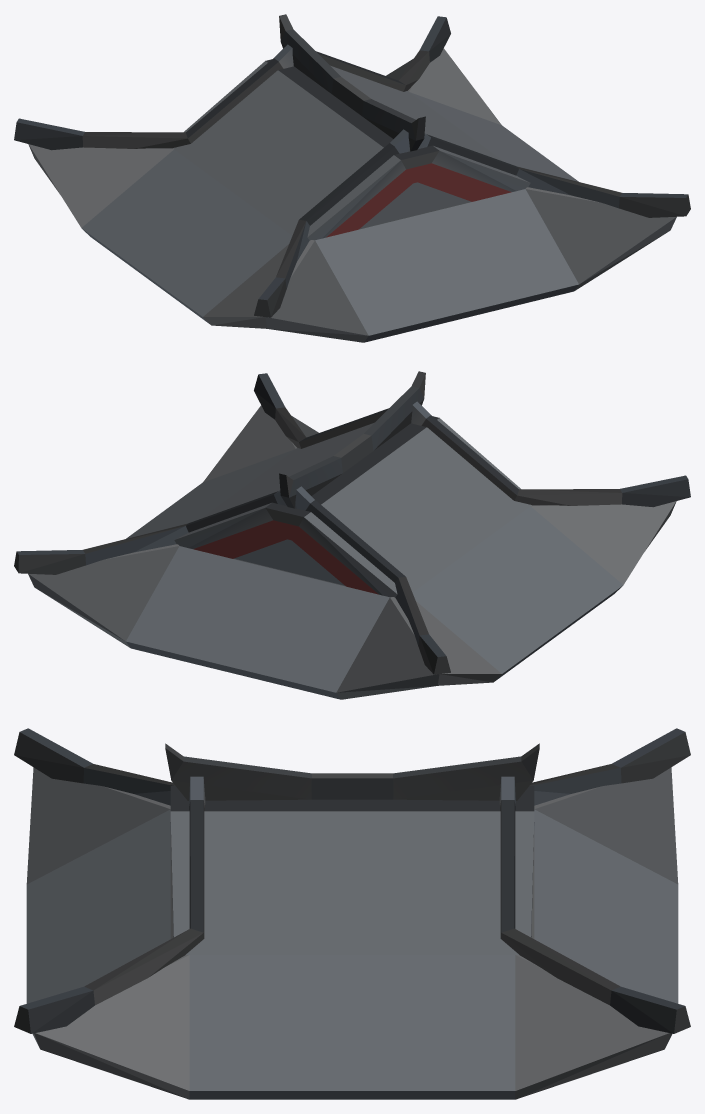
Rendered from StackA-RoofLOD2.fbx.
The picture shows the model from 3 angles, top to bottom: view 1: azimuth 30°, elevation 25°; view 2: azimuth 150°, elevation 25°; view 3: azimuth 270°, elevation 25°; orthographic projection. The views are drawn at different scales.
Parts seen in each view (by area): view 1: StackA-RoofLOD2; view 2: StackA-RoofLOD2; view 3: StackA-RoofLOD2.
Boxes of the visible parts, box(x1,y1,x2,y2) form: StackA-RoofLOD2: box(14, 14, 690, 342); StackA-RoofLOD2: box(14, 371, 690, 699); StackA-RoofLOD2: box(14, 728, 690, 1099).
Size of the model in its own units: 1039 by 376 by 1039.
